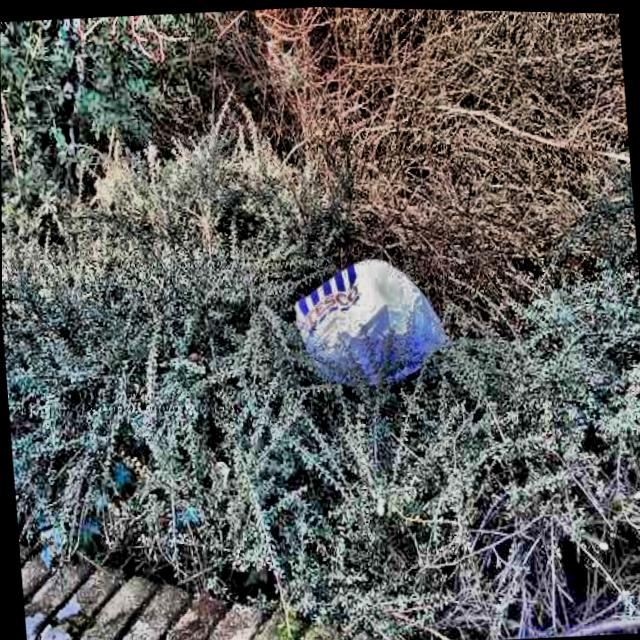Plastic: (275, 245, 460, 413)
